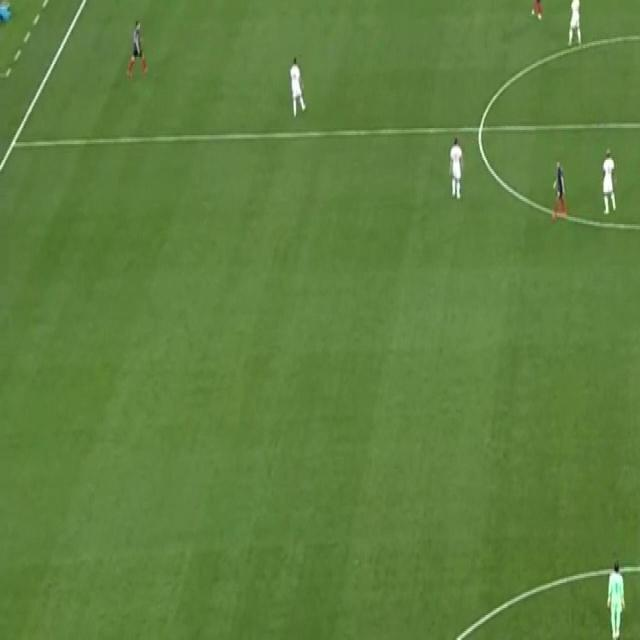player-white: (606, 558, 626, 640), (598, 144, 618, 218), (125, 17, 148, 80), (288, 55, 308, 124), (551, 155, 568, 227), (447, 136, 464, 203), (566, 0, 584, 48), (529, 0, 545, 23)
